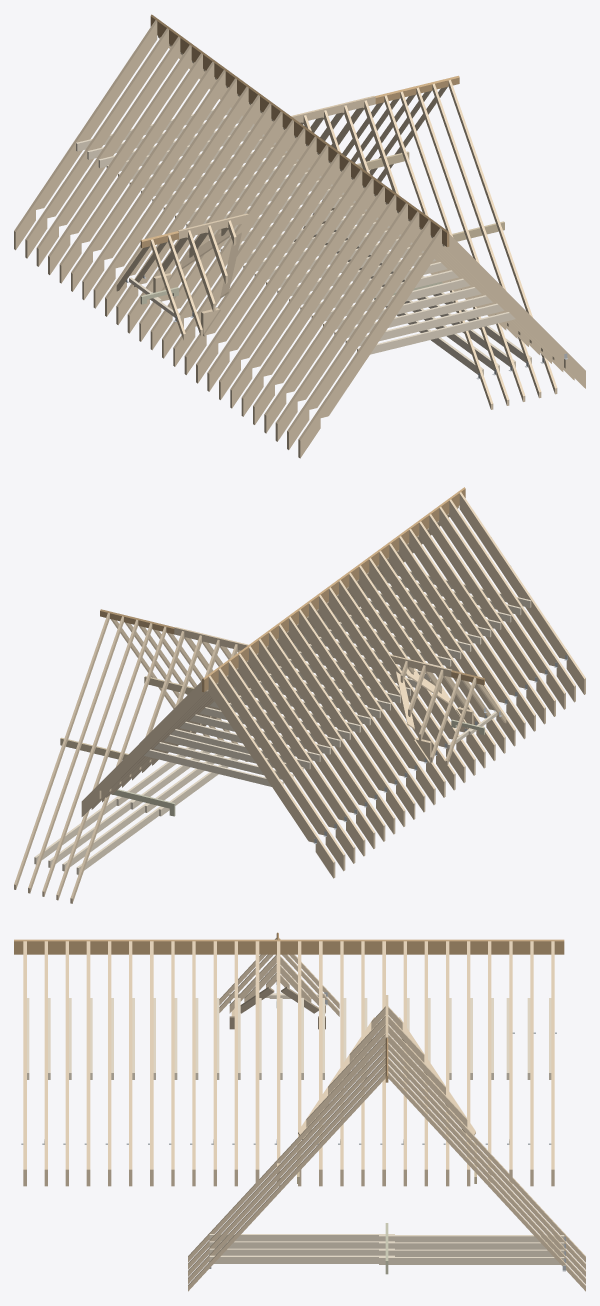
The model's file is stage-5.glb.
3 views of the same model, one above another, from view 1: azimuth 30°, elevation 25°; view 2: azimuth 150°, elevation 25°; view 3: azimuth 270°, elevation 25° (orthographic). The views are drawn at different scales.
Parts seen in each view (by area): view 1: Geom3D_R02 common 63 x 220 C24 L4403, Geom3D_RT54 raised tie 47 x 147 C24 L3282, Geom3D_RB01 ridge board 47 x 295 C16 L10178, Geom3D_M02 purlin 47 x 147 C24 L1666; view 2: Geom3D_R02 common 63 x 220 C24 L4403, Geom3D_RT54 raised tie 47 x 147 C24 L3282, Geom3D_RB01 ridge board 47 x 295 C16 L10178, Geom3D_M02 purlin 47 x 147 C24 L1666, Geom3D_BN22 binder 47 x 122 C24 L1666; view 3: Geom3D_R02 common 63 x 220 C24 L4403, Geom3D_RT54 raised tie 47 x 147 C24 L3282, Geom3D_RB01 ridge board 47 x 295 C16 L10178.
Part boxes in pixels (x1,y1,x2,y2): Geom3D_R02 common 63 x 220 C24 L4403: (14,20,585,458); Geom3D_RT54 raised tie 47 x 147 C24 L3282: (76,107,531,375); Geom3D_RB01 ridge board 47 x 295 C16 L10178: (140,14,459,248); Geom3D_M02 purlin 47 x 147 C24 L1666: (356,151,504,241); Geom3D_R02 common 63 x 220 C24 L4403: (14,492,585,903); Geom3D_RT54 raised tie 47 x 147 C24 L3282: (34,569,531,874); Geom3D_RB01 ridge board 47 x 295 C16 L10178: (100,487,484,692); Geom3D_M02 purlin 47 x 147 C24 L1666: (60,676,194,760); Geom3D_BN22 binder 47 x 122 C24 L1666: (111,719,484,816); Geom3D_R02 common 63 x 220 C24 L4403: (23,938,585,1291); Geom3D_RT54 raised tie 47 x 147 C24 L3282: (27,993,564,1264); Geom3D_RB01 ridge board 47 x 295 C16 L10178: (14,932,564,1082).
Bounding box in the file's own units: 7.46 × 5.31 × 10.58.
